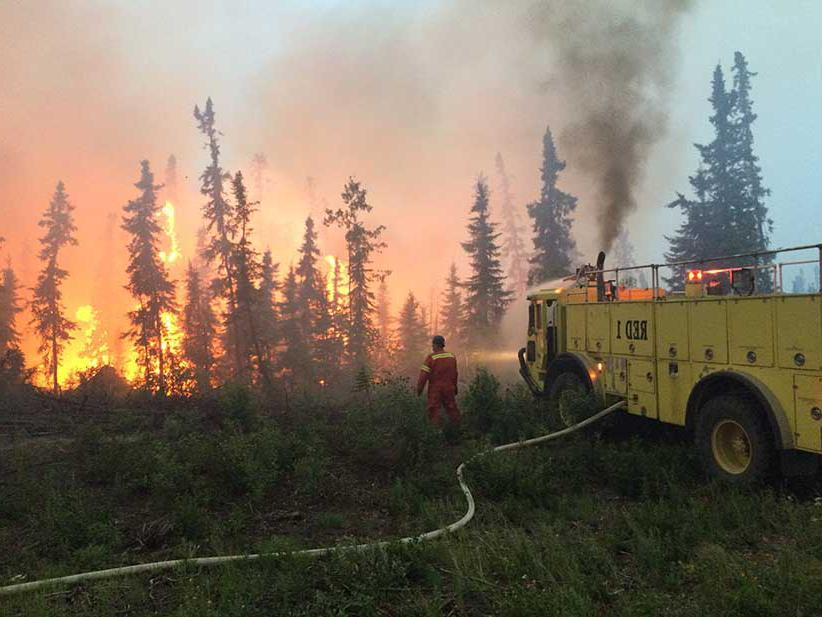Fire: (40, 189, 226, 403), (301, 249, 385, 346)
